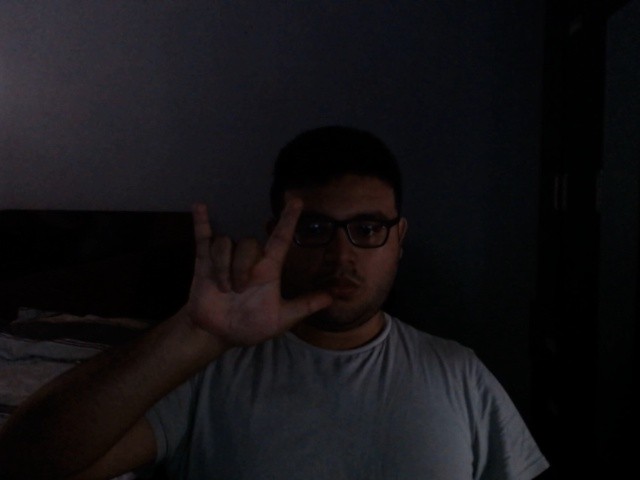I love you: (176, 195, 335, 357)
